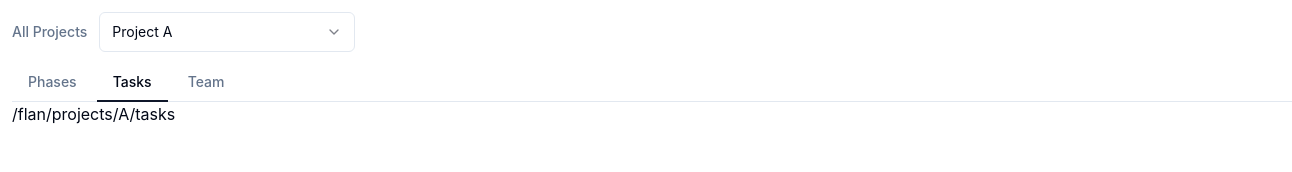
it: FlanNav › switching projects preserves the current section
Expected: the text with test id "pathname" reads "/flan/projects/A/tasks", [12, 104, 175, 124]
Click the dropdown labelled "Project": (227, 32) [99, 12, 355, 52]
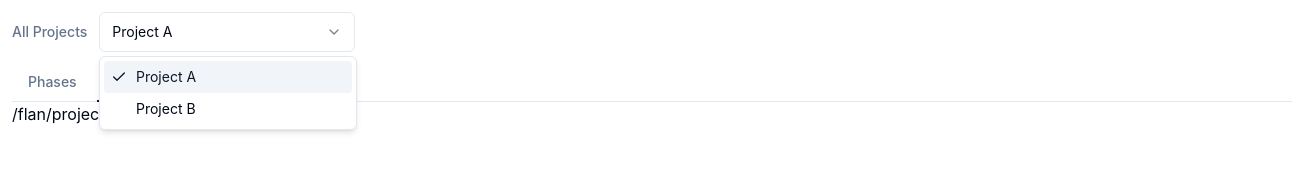
Click the option "Project B": (166, 108) [136, 100, 196, 117]
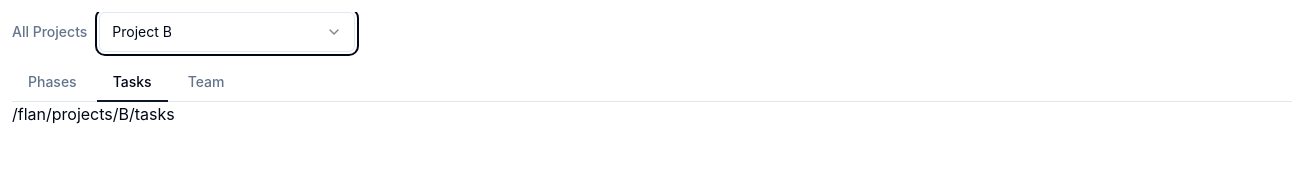
Now the text with test id "pathname" reads "/flan/projects/B/tasks", box [12, 104, 175, 124]
